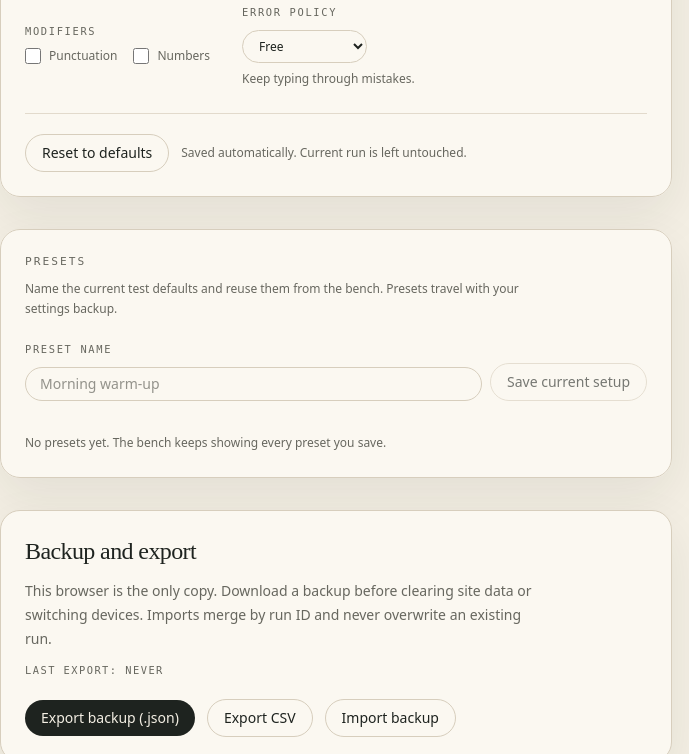
Test case: settings page › saves the current setup as a named preset
(page scrolled)
In the field labelled "Preset name": (254,384) top-left (25, 367), bottom-right (482, 401), type "Warm-up"
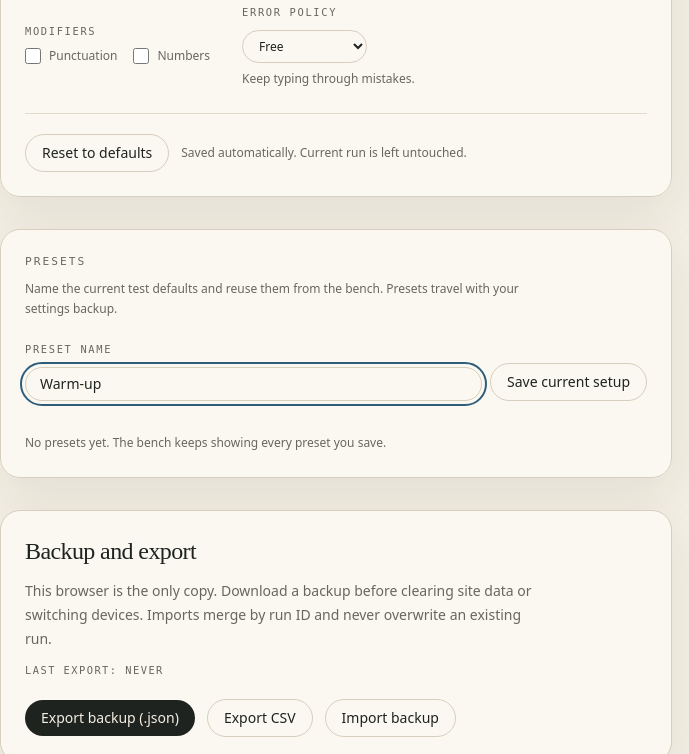
Click the button "Save current setup": (568,382) top-left (490, 363), bottom-right (647, 401)
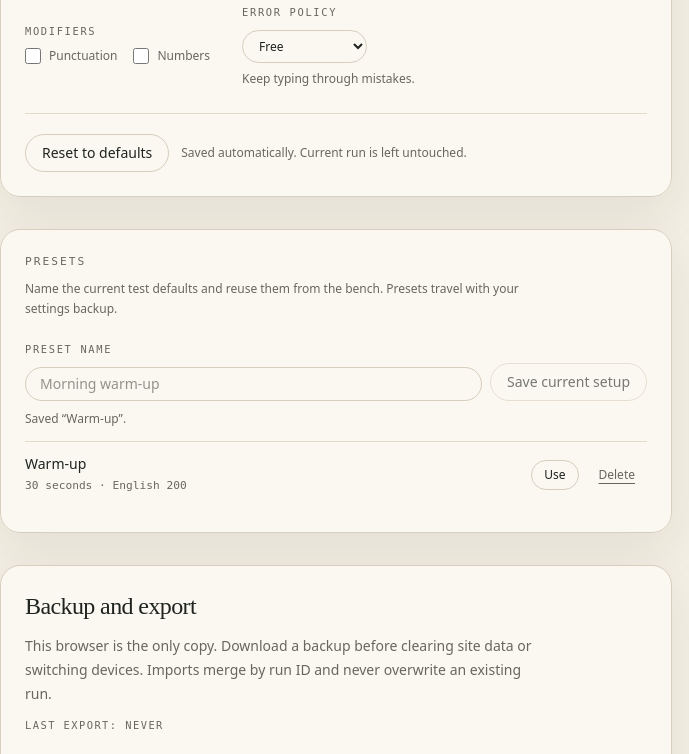
Now the text "Saved “Warm-up”." is shown, box top-left (25, 410), bottom-right (126, 427)
Now the text "30 seconds · English 200" is shown, box top-left (25, 476), bottom-right (187, 496)
Now the field labelled "Preset name" is empty, box top-left (25, 367), bottom-right (482, 401)
